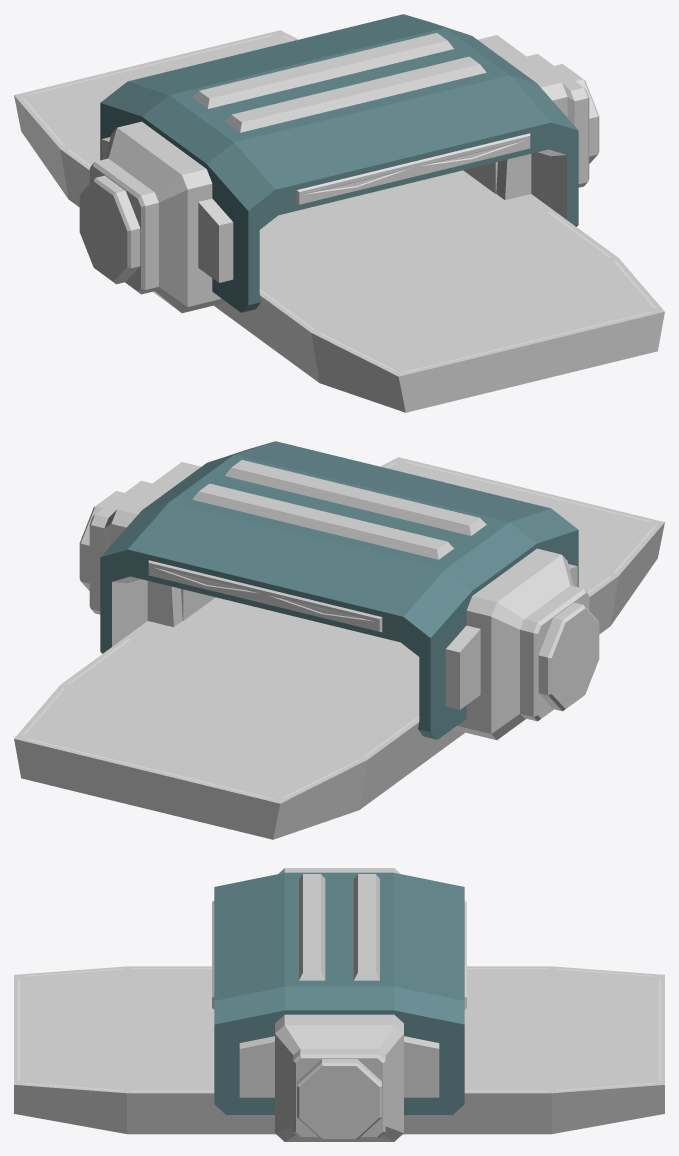
File: ss_dockingBay.glb
3 views of the same model, one above another, from view 1: azimuth 30°, elevation 25°; view 2: azimuth 150°, elevation 25°; view 3: azimuth 270°, elevation 25° (orthographic). The views are drawn at different scales.
Visible parts, largest first — view 1: Cube.004; view 2: Cube.004; view 3: Cube.004.
Boxes of the visible parts, x1,y1,x2,y2 form: Cube.004: (14, 14, 664, 412); Cube.004: (14, 441, 664, 839); Cube.004: (14, 868, 664, 1141).
Size of the model in its own units: 10 by 4.13 by 14.12.
